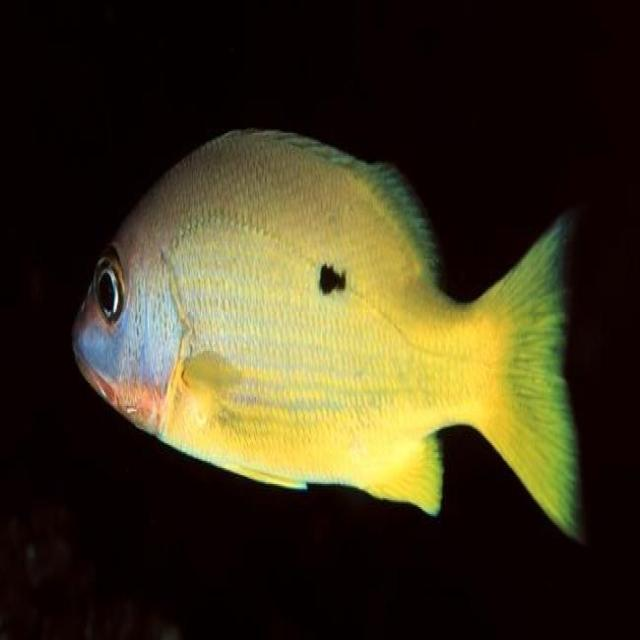ikan: (70, 124, 586, 543)
